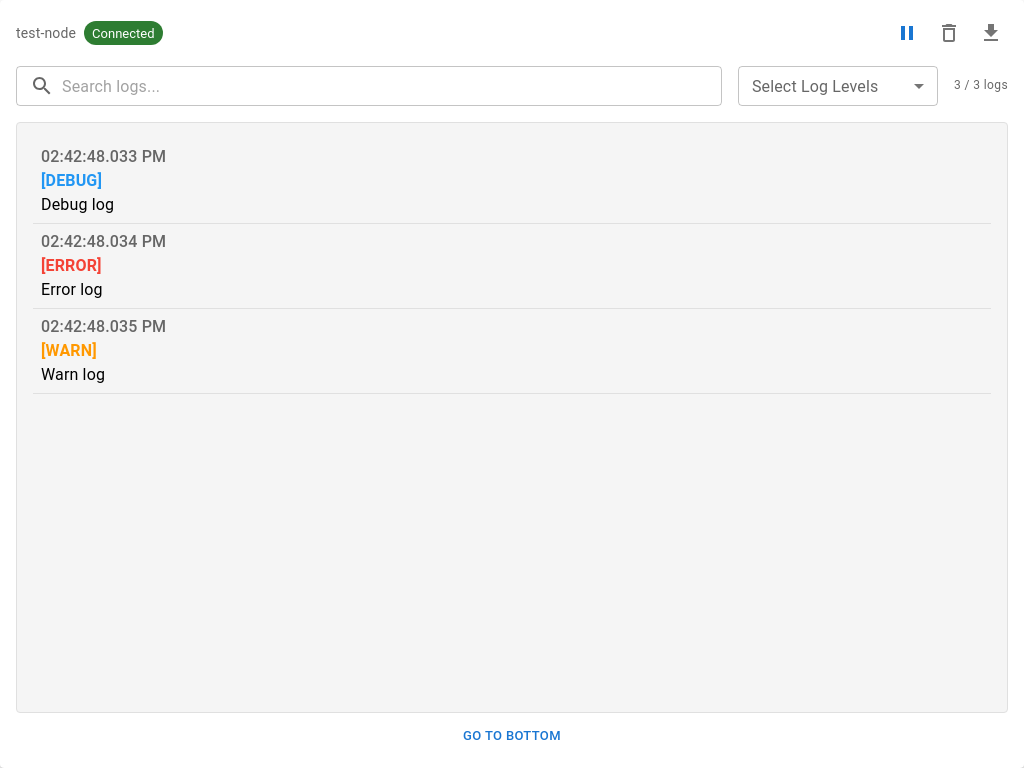
Test: LogsViewer › Filters and search › shows filtered log count
Expected: the text "3 / 3 logs" is shown, [954,76,1008,96]
Press the mouse on the dropdown named "Select Log Levels" at (838, 86), box [738,66,938,106]
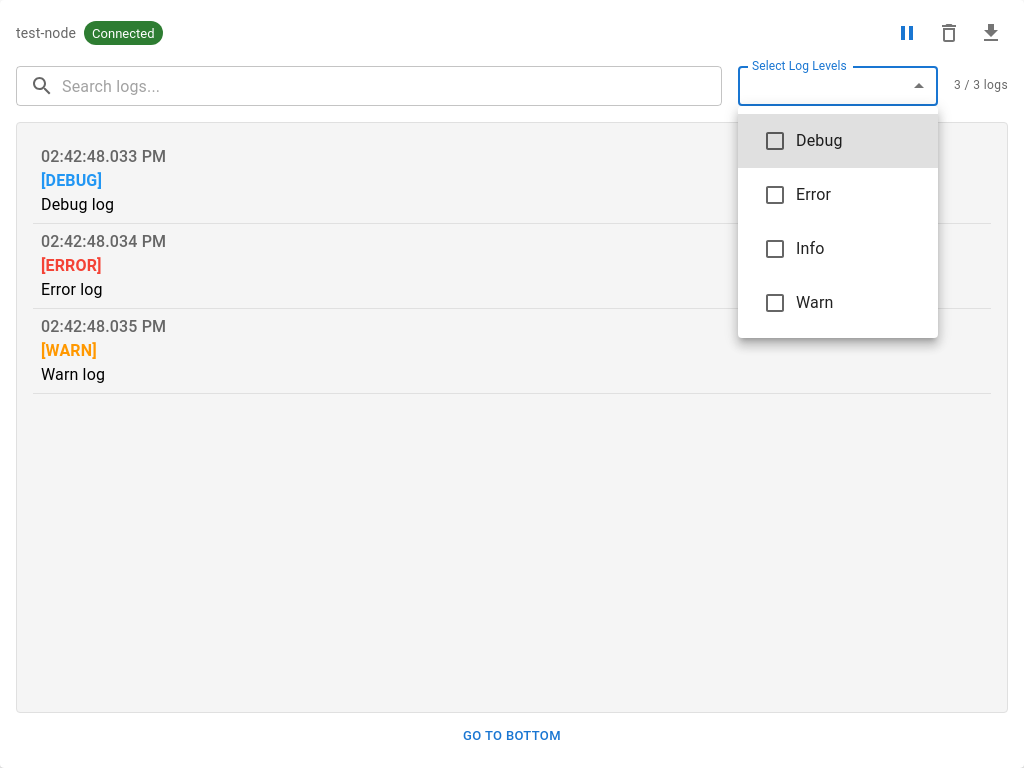
Click the option "Debug" at (838, 141), box [738,114,938,168]
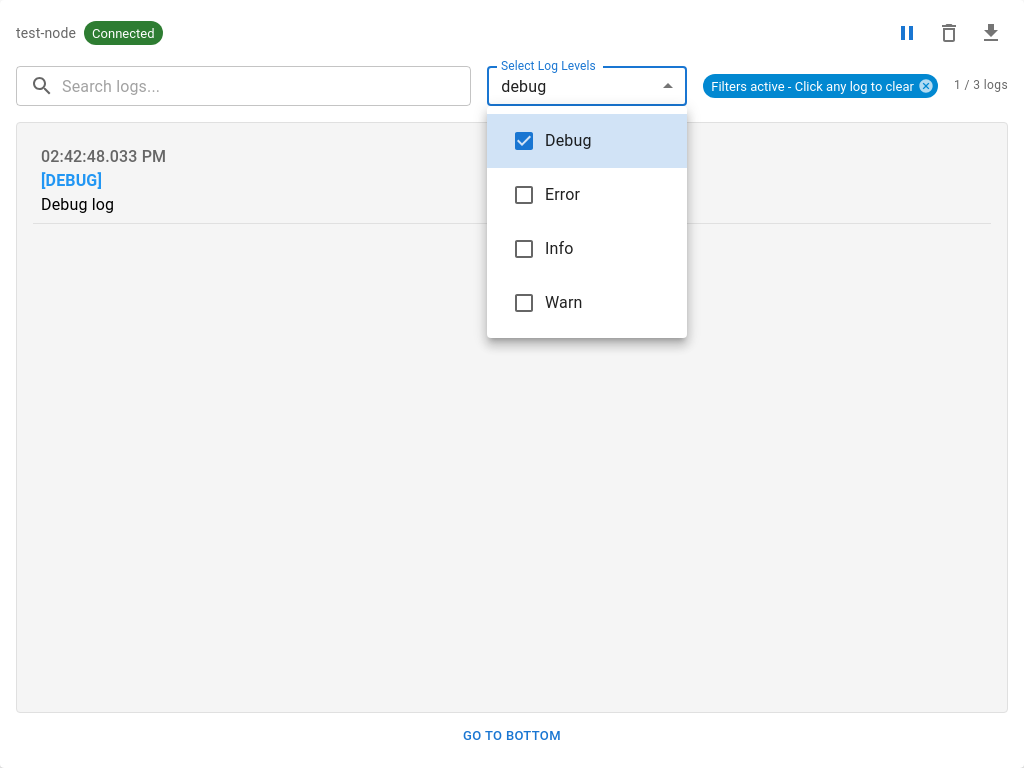
Result: the text "1 / 3 logs" is shown at [954,76,1008,96]
